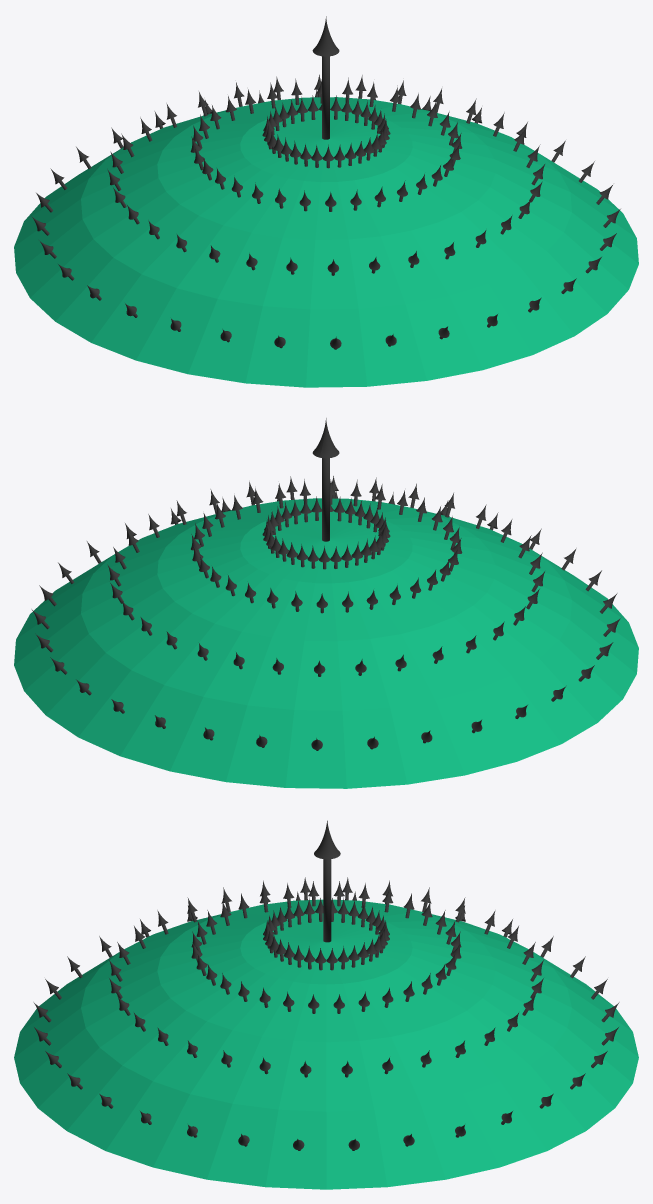
File: 09_Area vector of curved surfaces.glb
The picture shows the model from 3 angles, top to bottom: view 1: azimuth 30°, elevation 25°; view 2: azimuth 150°, elevation 25°; view 3: azimuth 270°, elevation 25°; orthographic projection.
Parts seen in each view (by area): view 1: Curved_surface, Arrow; view 2: Curved_surface, Arrow; view 3: Curved_surface, Arrow.
Part boxes in pixels (bbox=[...]): Curved_surface: bbox=[14, 97, 638, 387]; Arrow: bbox=[312, 16, 339, 139]; Curved_surface: bbox=[14, 498, 638, 788]; Arrow: bbox=[312, 418, 339, 541]; Curved_surface: bbox=[14, 899, 638, 1189]; Arrow: bbox=[314, 820, 340, 942].
Size of the model in its own units: 3.71 by 1.58 by 3.71.
